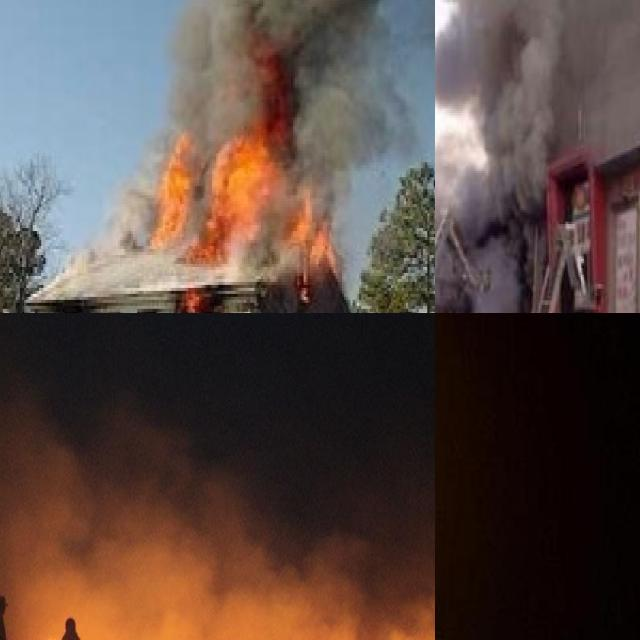fire: (150, 123, 351, 285), (175, 288, 211, 313)
smoke: (0, 417, 435, 640), (435, 0, 640, 235), (173, 0, 393, 141), (67, 153, 150, 270), (463, 240, 522, 313)
